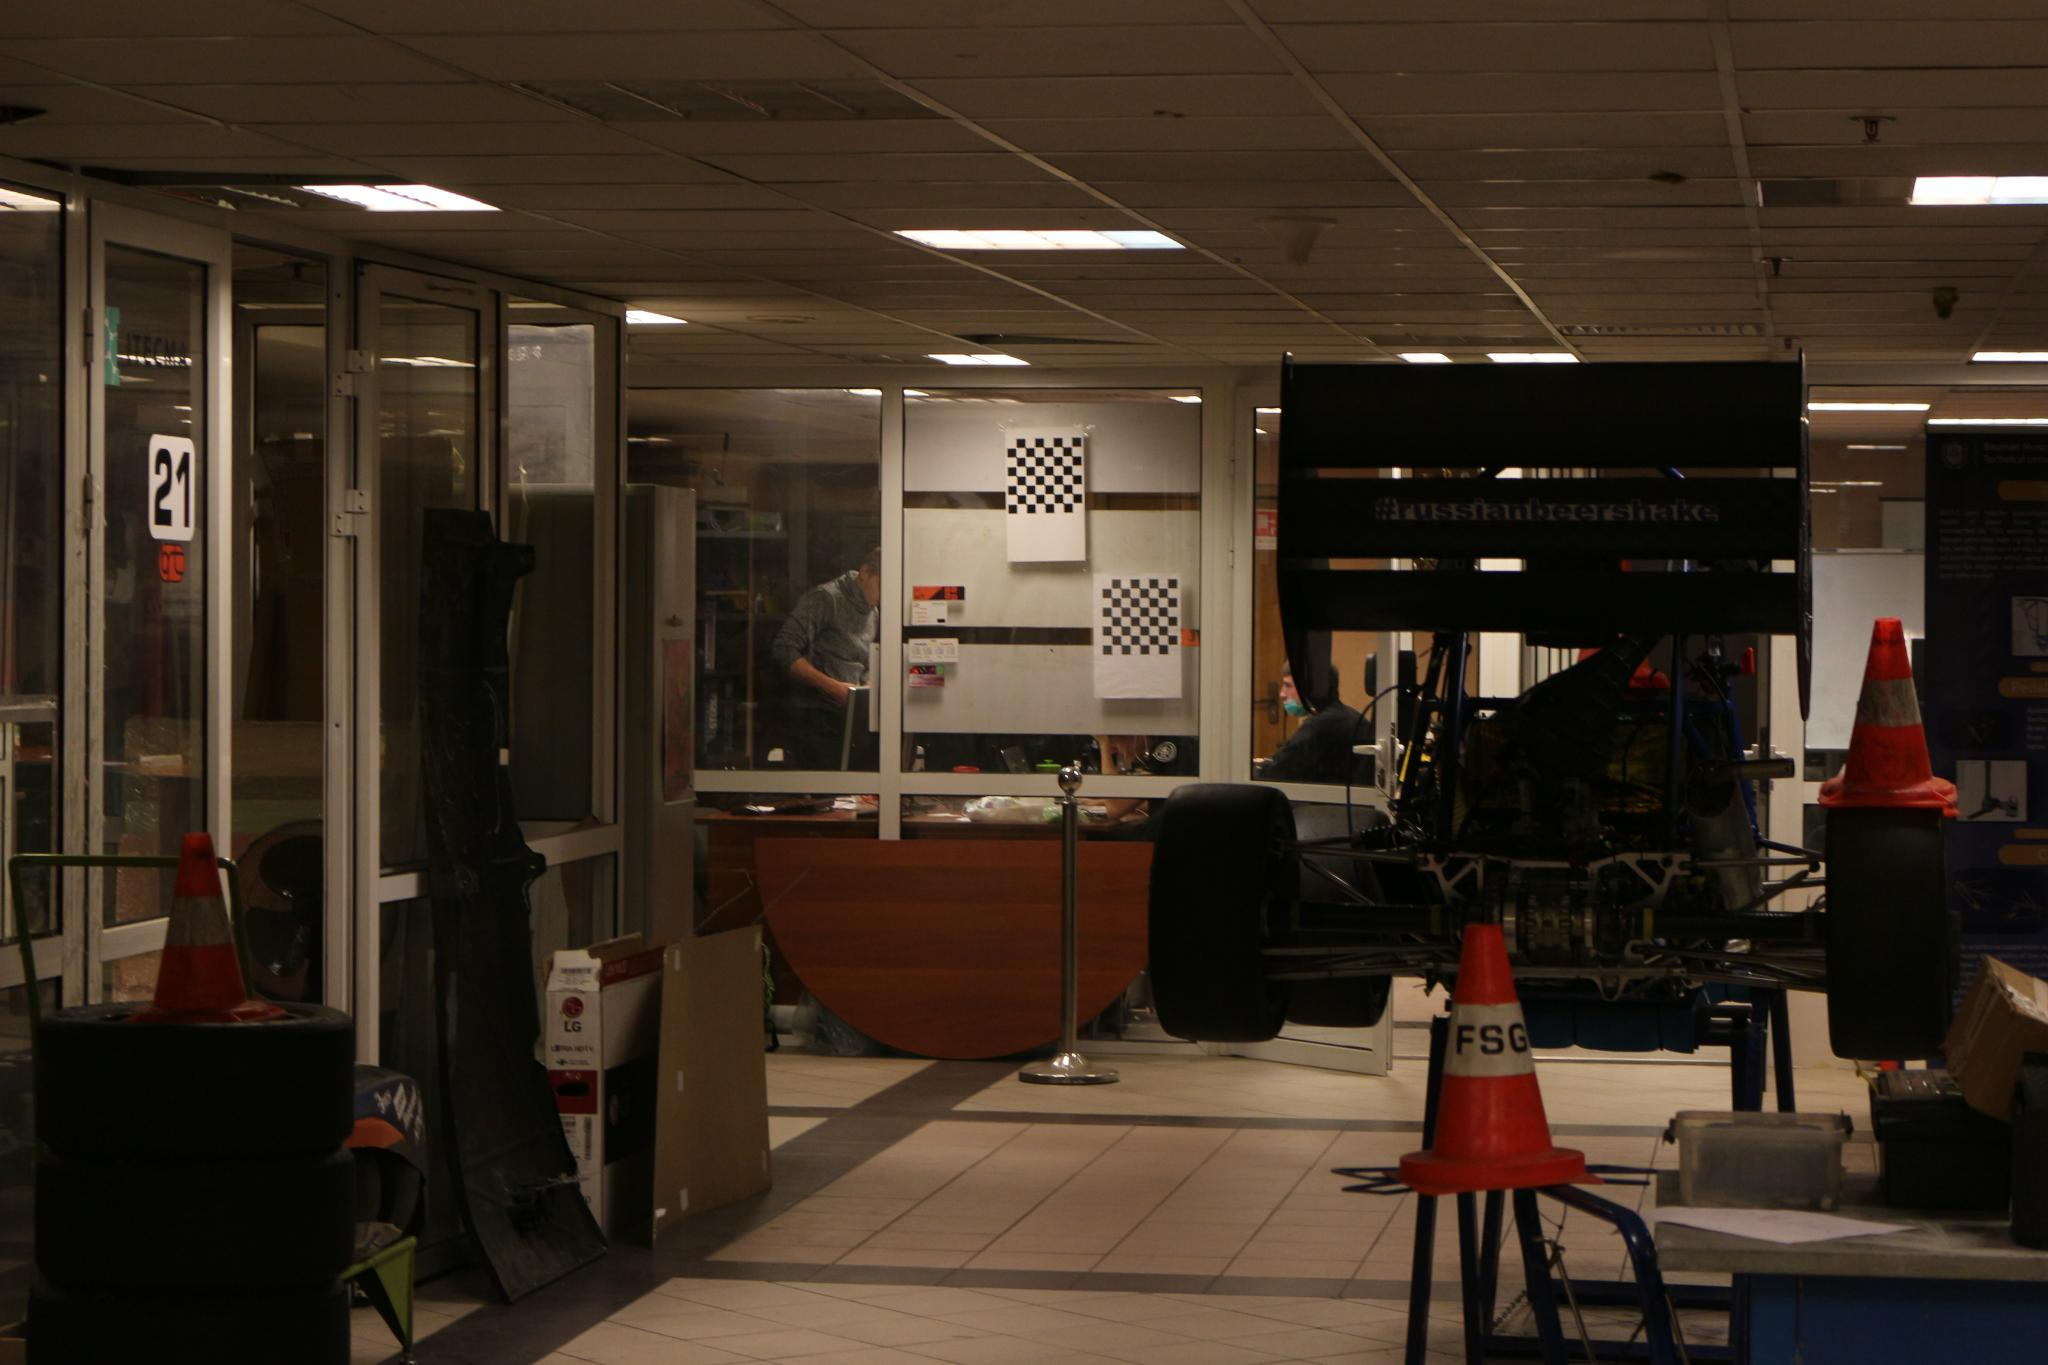Orange_Cone: (1392, 917, 1591, 1185), (1809, 605, 1958, 812), (145, 836, 270, 1027)
